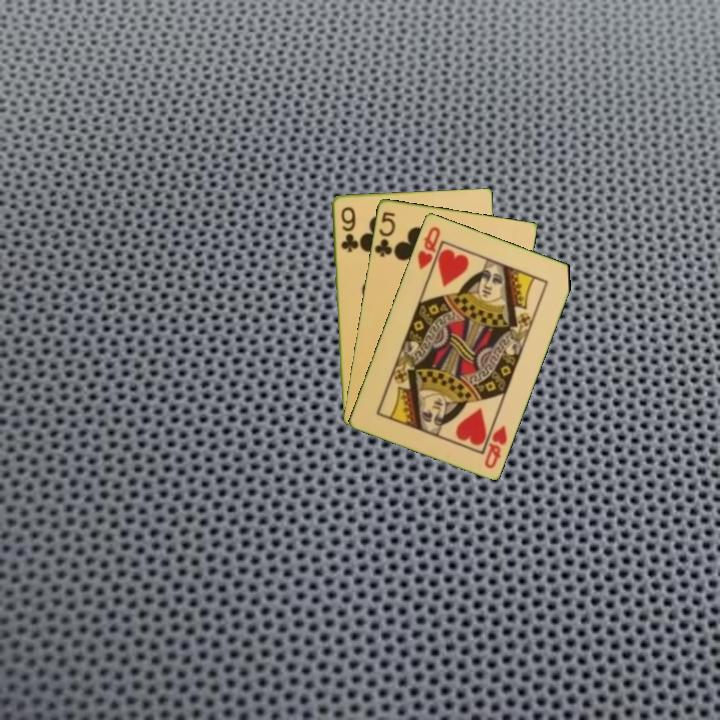5c: (371, 208, 398, 259)
9c: (337, 203, 358, 254)
Qh: (479, 421, 510, 471), (414, 223, 443, 273)
